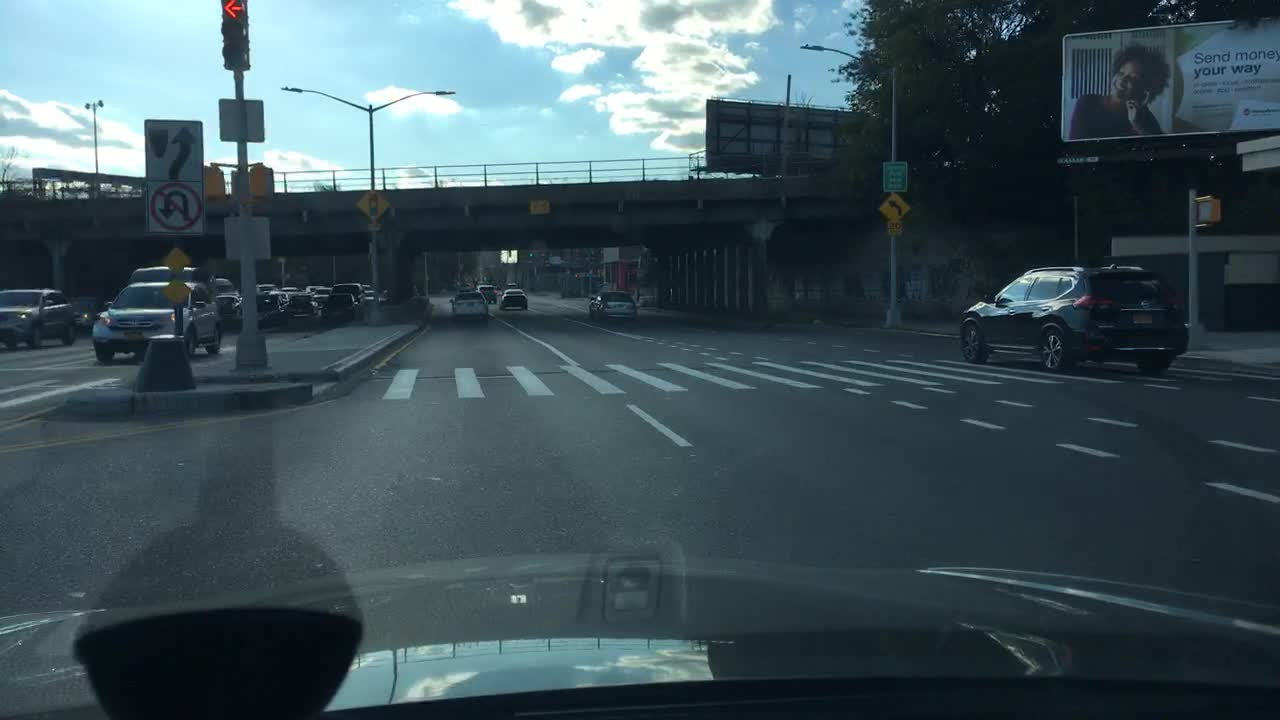car: (956, 268, 1190, 376), (93, 280, 222, 362), (0, 289, 75, 350), (589, 290, 640, 322), (207, 292, 244, 328), (449, 292, 490, 324), (287, 292, 322, 328), (257, 292, 289, 327), (322, 293, 357, 321), (132, 267, 200, 281), (74, 296, 95, 330), (497, 290, 527, 312), (332, 281, 362, 302), (94, 300, 120, 320), (478, 285, 497, 304), (208, 279, 234, 290), (315, 294, 330, 313), (251, 283, 277, 292), (312, 286, 335, 295), (379, 288, 390, 303), (459, 284, 477, 293), (303, 285, 323, 291), (365, 292, 374, 305), (281, 285, 299, 291), (494, 285, 502, 296), (361, 281, 371, 289), (477, 281, 489, 285), (506, 283, 517, 287)
traffic light: (221, 0, 249, 70), (250, 165, 274, 202), (1195, 196, 1221, 224), (204, 161, 224, 197), (527, 250, 533, 260)
traffic sign: (705, 95, 870, 172), (143, 120, 201, 236), (222, 216, 271, 261), (221, 98, 262, 143), (358, 189, 389, 220), (163, 276, 192, 307), (878, 193, 911, 220), (1233, 135, 1277, 154), (882, 161, 908, 191), (160, 245, 192, 267), (1241, 150, 1278, 169), (1056, 154, 1100, 163), (753, 220, 769, 241), (527, 198, 549, 213), (887, 222, 903, 241), (603, 246, 619, 261), (548, 255, 562, 265), (509, 249, 517, 263), (367, 223, 381, 230), (501, 248, 506, 265)
